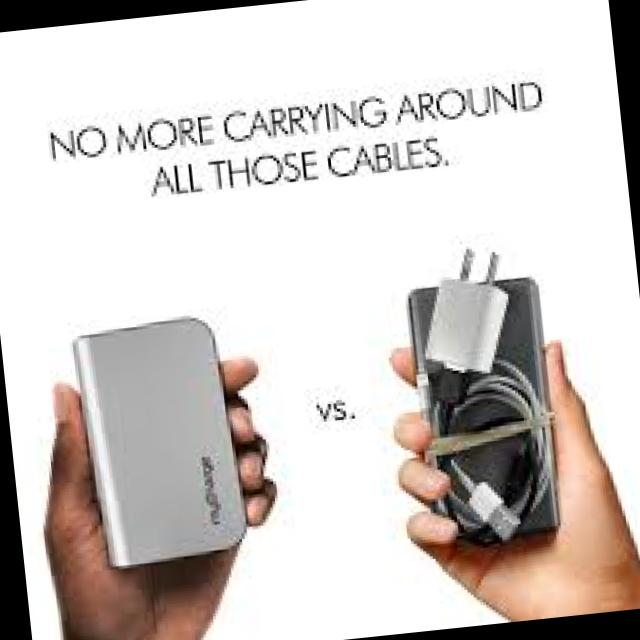power_bank: (58, 310, 255, 580)
